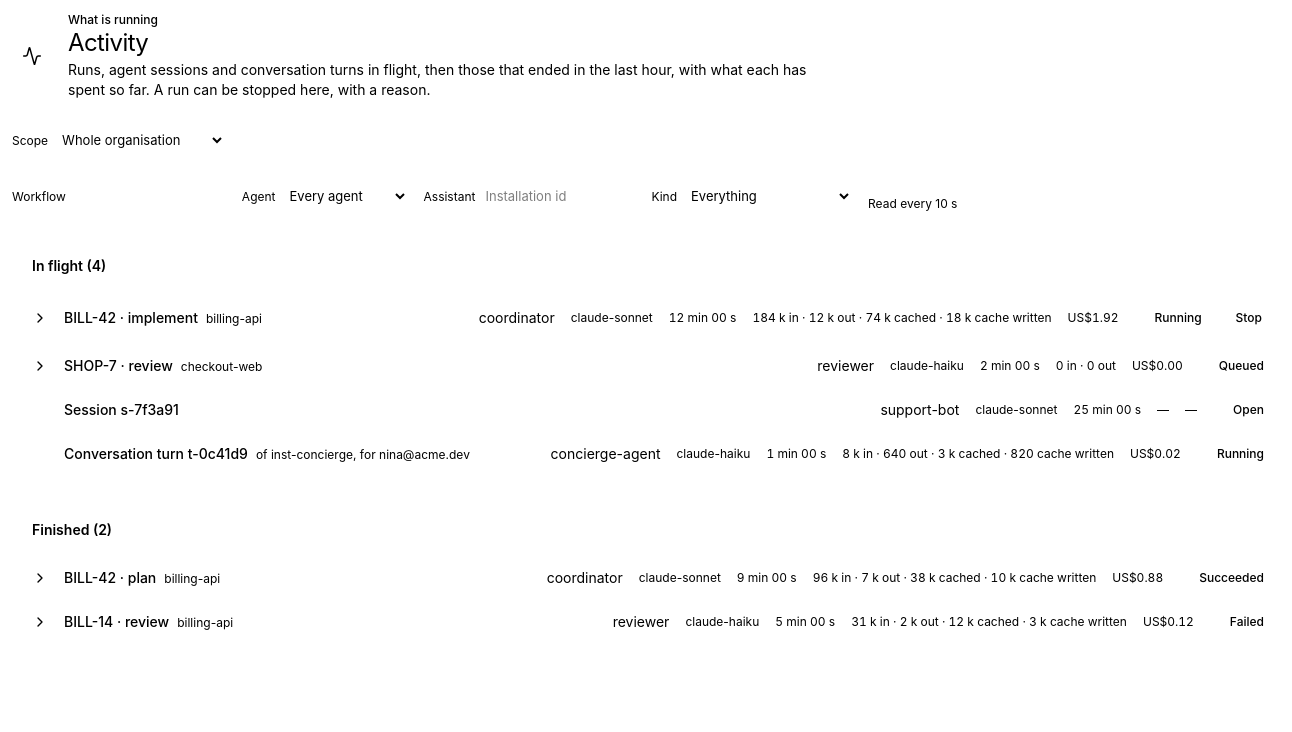
Test: the Activity screen › opens a run onto its steps, the run's events
Click the button named "Steps of BILL-42 · implement" at (40, 318), box [32, 310, 48, 326]
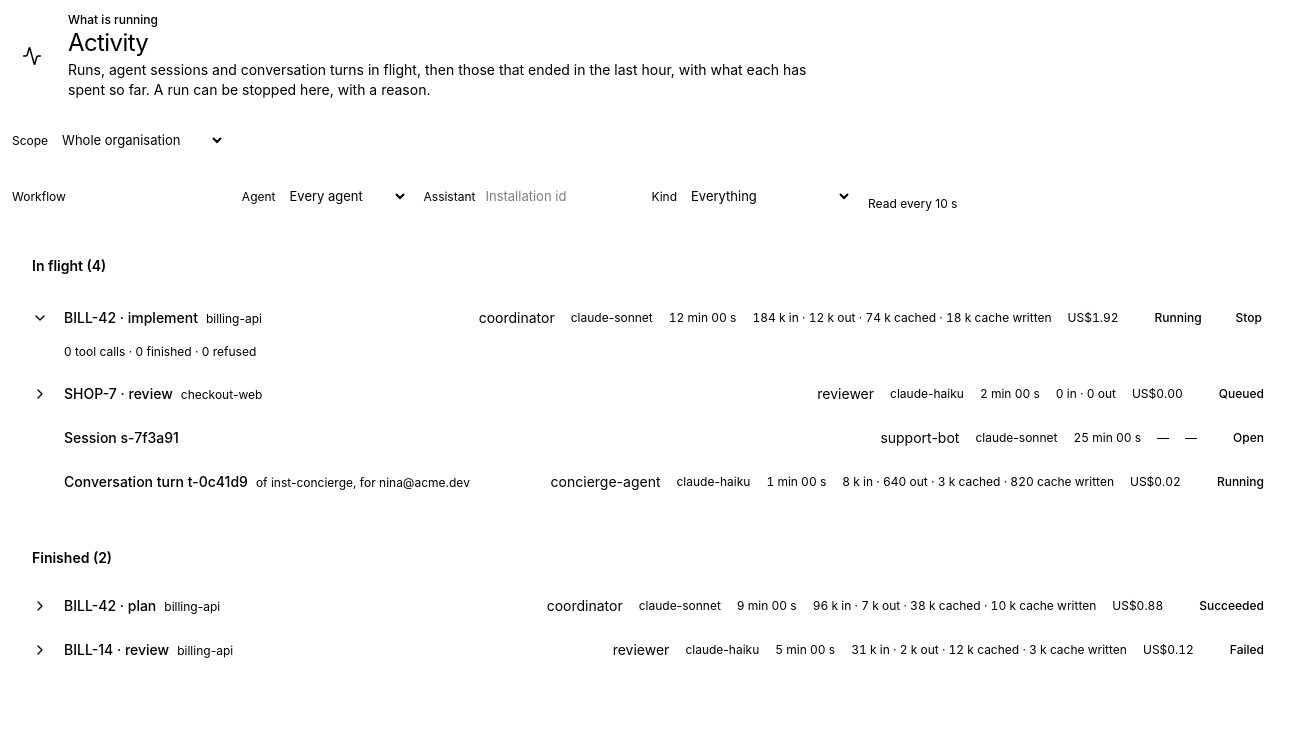
Now the button named "Steps of BILL-42 · implement" is expanded, box [32, 310, 48, 326]
Now the element with test id "run-activity" is shown, box [64, 344, 256, 359]
